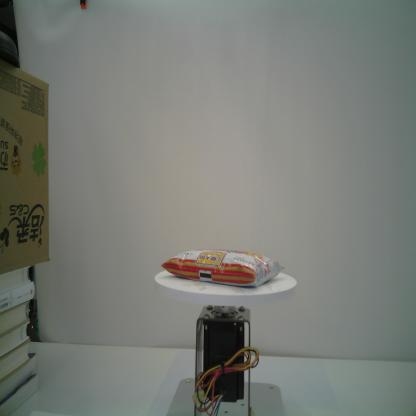Seasoner: (158, 247, 286, 291)
